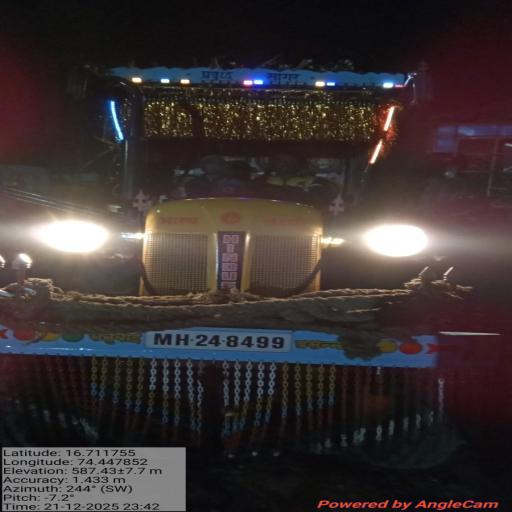number_plate: (138, 326, 312, 364)
